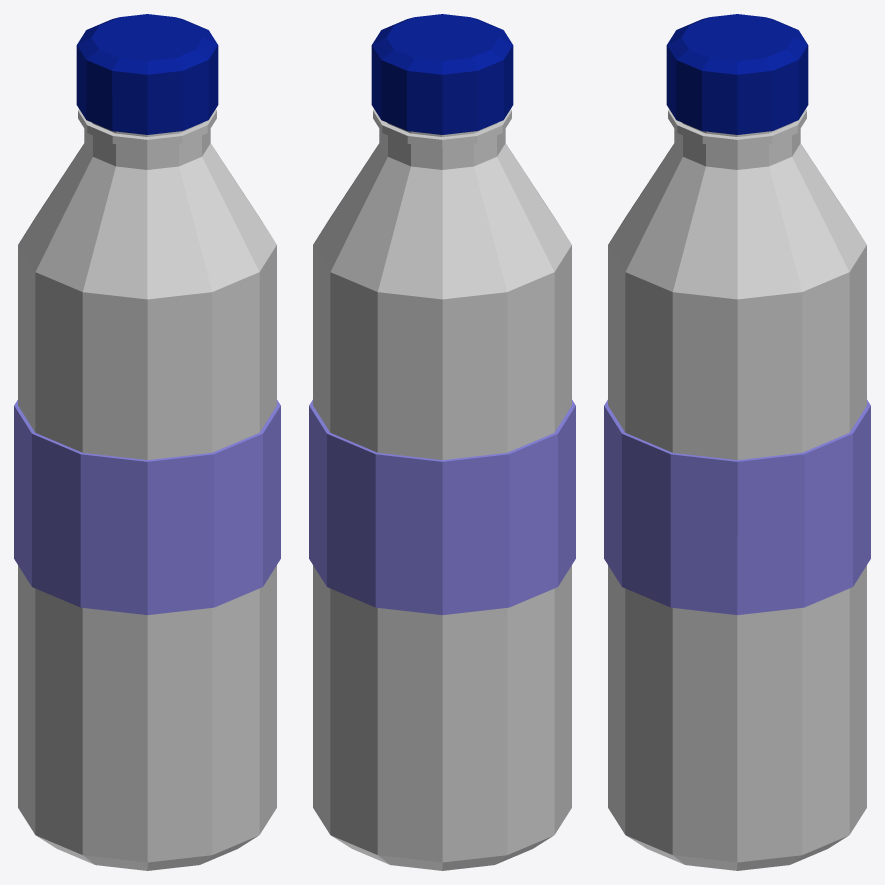
Rendered from chai nuoc.fbx.
3 renders of one model, left to right at view 1: azimuth 30°, elevation 25°; view 2: azimuth 150°, elevation 25°; view 3: azimuth 270°, elevation 25°, orthographic.
Parts seen in each view (by area): view 1: Cylinder, Cylinder.001; view 2: Cylinder, Cylinder.001; view 3: Cylinder, Cylinder.001.
Part boxes in pixels (x1,y1,x2,y2): Cylinder: (14,109,280,870); Cylinder.001: (76,14,218,134); Cylinder: (309,109,575,870); Cylinder.001: (371,14,513,134); Cylinder: (604,109,870,870); Cylinder.001: (666,14,808,134).
Size of the model in its own units: 90.07 by 294 by 90.07.
